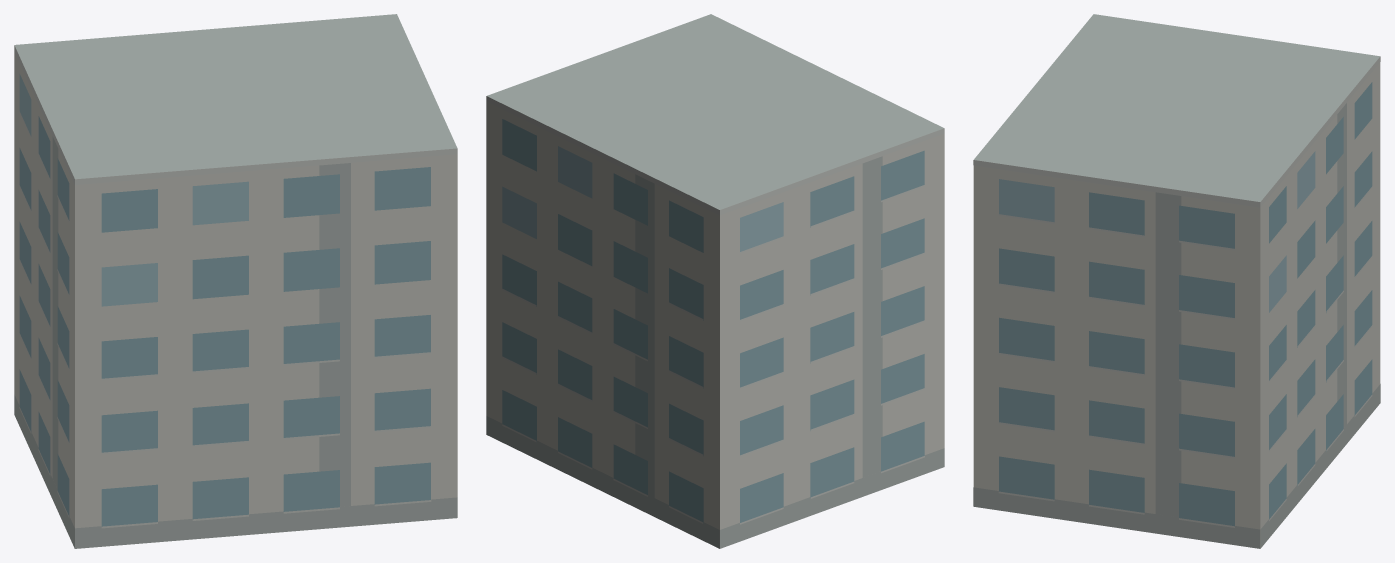
The model's file is residential-d375673c-36c8-4177-b1d6-06b074d91a68.glb.
3 views of the same model, side by side, from view 1: azimuth 30°, elevation 25°; view 2: azimuth 150°, elevation 25°; view 3: azimuth 270°, elevation 25° (orthographic). The views are drawn at different scales.
Parts seen in each view (by area): view 1: residential-d375673c-36c8-4177-b1d6-06b074d91a68.tmp; view 2: residential-d375673c-36c8-4177-b1d6-06b074d91a68.tmp; view 3: residential-d375673c-36c8-4177-b1d6-06b074d91a68.tmp.
Part boxes in pixels (<box>): residential-d375673c-36c8-4177-b1d6-06b074d91a68.tmp: <box>14,14,457,548</box>; residential-d375673c-36c8-4177-b1d6-06b074d91a68.tmp: <box>486,14,944,548</box>; residential-d375673c-36c8-4177-b1d6-06b074d91a68.tmp: <box>973,14,1380,548</box>.
Size of the model in its own units: 17.75 by 15.25 by 16.23.
